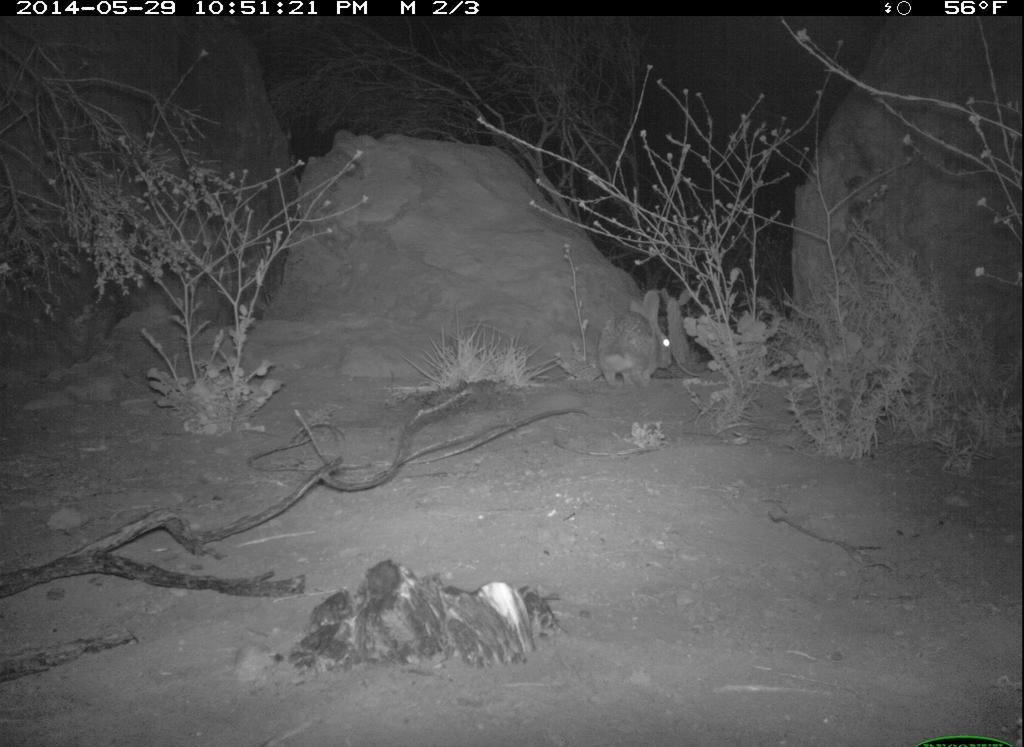rabbit: (593, 286, 676, 391)
